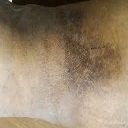Cellulitis: (56, 23, 116, 95)
